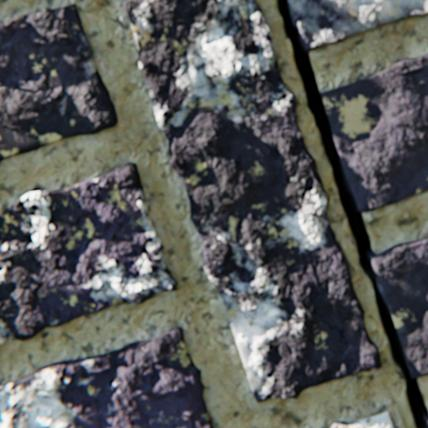brick: (125, 0, 380, 400), (0, 163, 178, 343), (0, 326, 213, 427), (0, 4, 118, 162), (321, 55, 427, 211), (370, 237, 427, 376), (288, 0, 427, 51), (329, 411, 393, 427), (425, 414, 427, 427)
crack: (276, 0, 427, 427), (297, 293, 328, 322), (280, 272, 295, 291), (338, 329, 343, 340)
